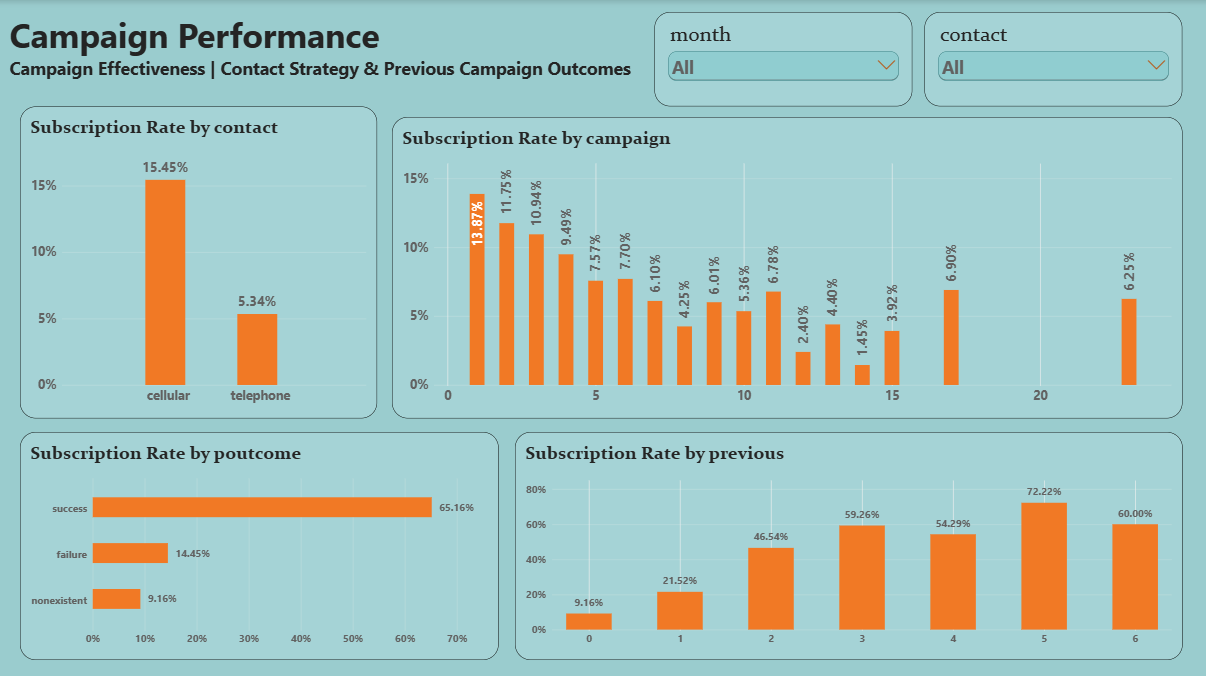

The page's visual inventory and layout, read from the dashboard file:
{"tool":"powerbi","page":{"name":"Campaign Performance","canvas":[1920,1080],"ordinal":2},"visuals":[{"type":"clusteredColumnChart","fields":{"Category":["Bank_Marketing.contact"],"Y":["Measures (2).Subscription Rate"]},"box":[33.4,169.4,567.8,496.3],"z":0},{"type":"textbox","title":"Customer Analysis","box":[16.7,19.1,997.3,124.1],"z":1000},{"type":"clusteredColumnChart","fields":{"Category":["Bank_Marketing.campaign"],"Y":["Measures (2).Subscription Rate"]},"box":[625.1,186.1,1257.4,479.6],"z":2000},{"type":"clusteredBarChart","fields":{"Category":["Bank_Marketing.poutcome"],"Y":["Measures (2).Subscription Rate"]},"box":[33.4,687.1,761.1,362.7],"z":3000},{"type":"clusteredColumnChart","fields":{"Category":["Bank_Marketing.previous"],"Y":["Measures (2).Subscription Rate"]},"box":[820.8,687.1,1061.7,362.7],"z":4000},{"type":"slicer","fields":{"Values":["Bank_Marketing.month"]},"box":[1042.6,19.1,410,150],"z":5000},{"type":"slicer","fields":{"Values":["Bank_Marketing.contact"]},"box":[1472.1,19.1,410,150],"z":6000}]}

Visuals, with their boxes in screenshot pixels (x1, y1, x2, y2), scaled from the page's 1920x1080 canvas onto the 1206x676 screenshot:
clusteredColumnChart - Bank_Marketing.contact x Measures (2).Subscription Rate: left=21, top=106, right=378, bottom=417
"Customer Analysis" textbox: left=10, top=12, right=637, bottom=90
clusteredColumnChart - Bank_Marketing.campaign x Measures (2).Subscription Rate: left=393, top=116, right=1182, bottom=417
clusteredBarChart - Bank_Marketing.poutcome x Measures (2).Subscription Rate: left=21, top=430, right=499, bottom=657
clusteredColumnChart - Bank_Marketing.previous x Measures (2).Subscription Rate: left=516, top=430, right=1182, bottom=657
slicer - Bank_Marketing.month: left=655, top=12, right=912, bottom=106
slicer - Bank_Marketing.contact: left=925, top=12, right=1182, bottom=106
